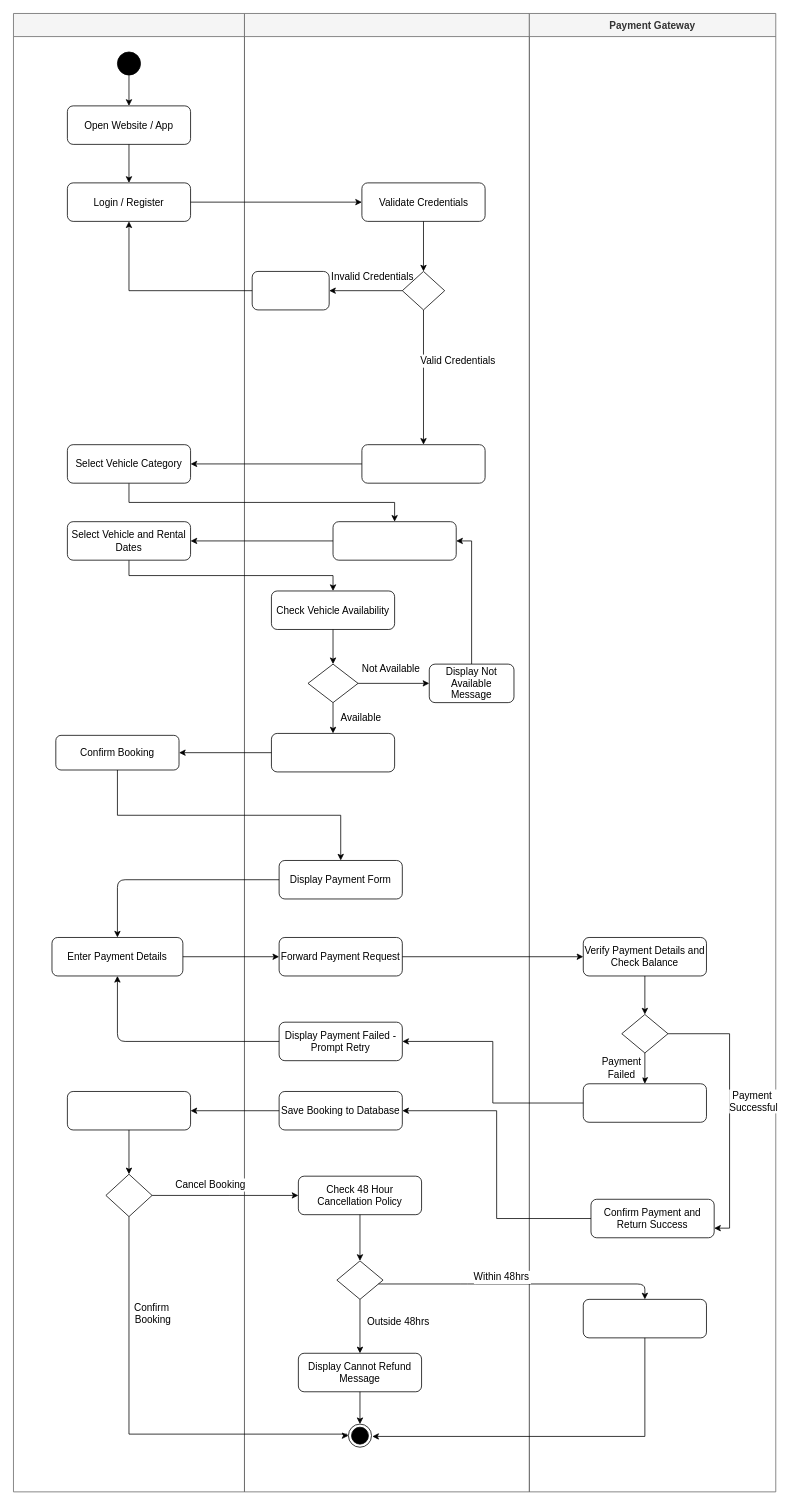
The diagram is 791 pixels wide and 1505 high, and some of its shapes have lost their labels. Each missing label, with the box of its shape:
Calculate Cost: (271, 733, 395, 772)
Customer: (13, 13, 244, 1492)
Display Available Vehicles: (332, 521, 456, 560)
Display Invalid Credentials Message: (251, 271, 329, 310)
Display Vehicle Categories: (361, 444, 485, 483)
Process Refund to Customer Account: (583, 1299, 706, 1338)
Return Payment Failed: (583, 1083, 706, 1122)
System: (244, 13, 529, 1492)
View Reservation on Dashboard: (67, 1091, 191, 1130)
